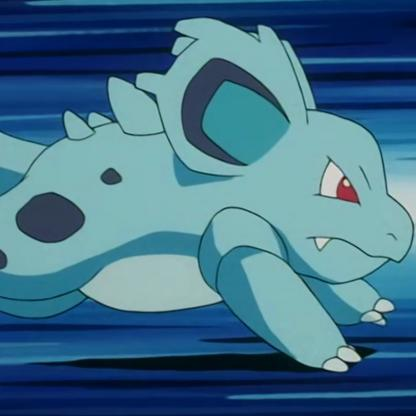Nidorina: (1, 21, 416, 378)
